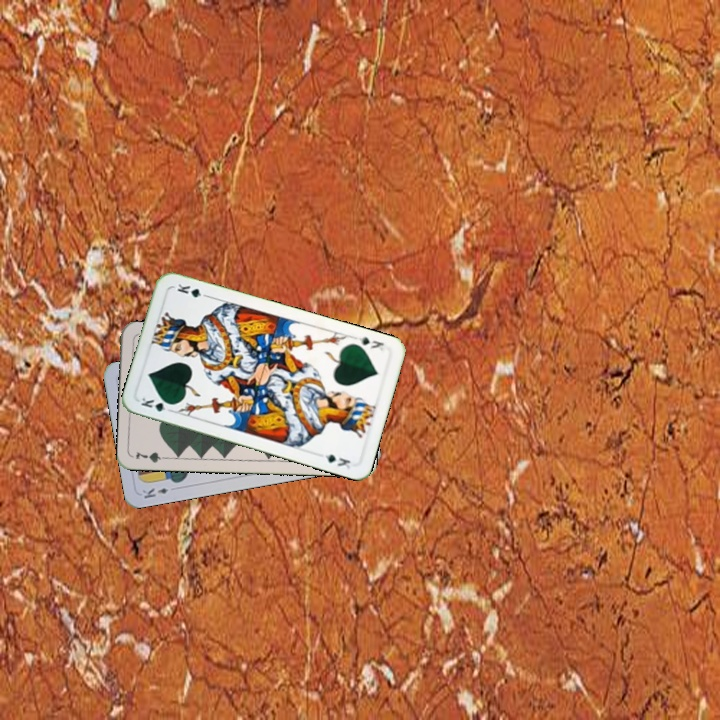EK: (138, 484, 171, 501)
G7: (132, 447, 172, 465)
GK: (137, 393, 177, 415), (351, 333, 386, 353)
